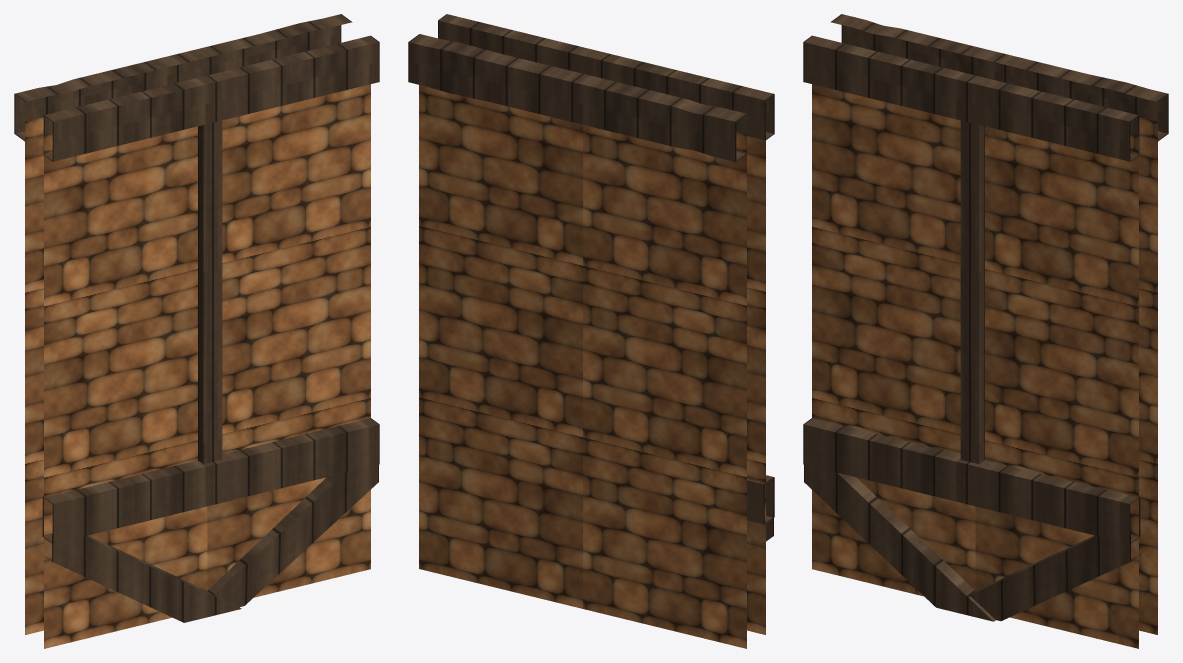
The model's file is Wall_Sandstone_Straight.gltf.
3 renders of one model, left to right at view 1: azimuth 30°, elevation 25°; view 2: azimuth 150°, elevation 25°; view 3: azimuth 330°, elevation 25°, orthographic.
Visible parts, largest first — view 1: Wall_Sandstone_Straight; view 2: Wall_Sandstone_Straight; view 3: Wall_Sandstone_Straight.
Part boxes in pixels (<box>): Wall_Sandstone_Straight: <box>14,14,379,648</box>; Wall_Sandstone_Straight: <box>408,14,774,648</box>; Wall_Sandstone_Straight: <box>803,14,1168,648</box>.
Size of the model in its own units: 2 by 3.12 by 0.406.
Materials: 2 (2 with a texture image).
